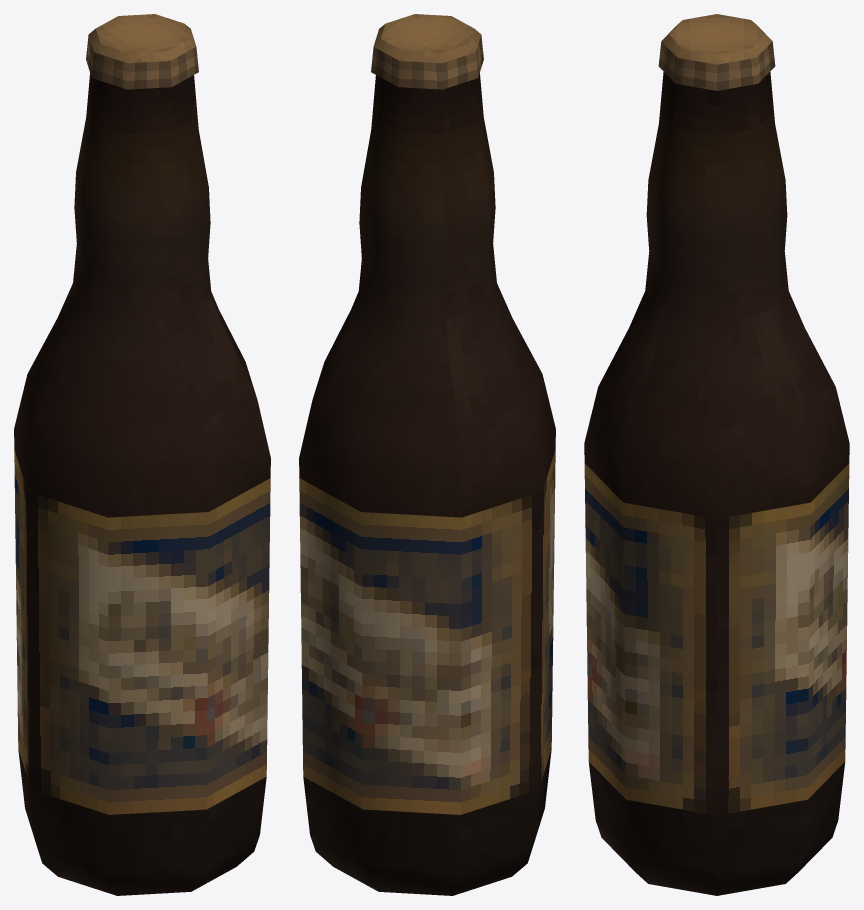
File: glass_bottle_1.glb
3 renders of one model, left to right at view 1: azimuth 30°, elevation 25°; view 2: azimuth 150°, elevation 25°; view 3: azimuth 270°, elevation 25°, orthographic.
Visible parts, largest first — view 1: glass_bottle_1; view 2: glass_bottle_1; view 3: glass_bottle_1.
Boxes of the visible parts, x1,y1,x2,y2 form: glass_bottle_1: [14, 14, 270, 895]; glass_bottle_1: [299, 14, 555, 895]; glass_bottle_1: [584, 14, 849, 895].
Size of the model in its own units: 0.1037 by 0.3538 by 0.1037.
1 material, 1 textured.
